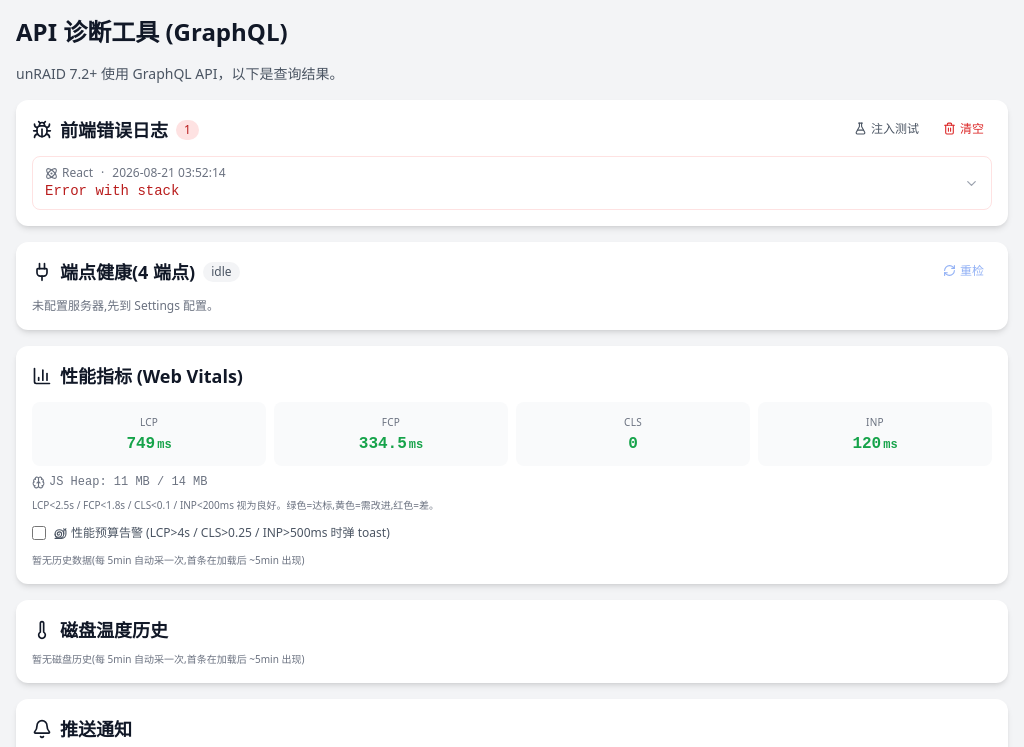
Test: Debug 页面 › 点击错误行 → 展开显示 stack/extra
Expected: the text "at foo() at bar()" is not shown
Click the text "Error with stack" at {"x": 112, "y": 191}, box [45,183,179,199]
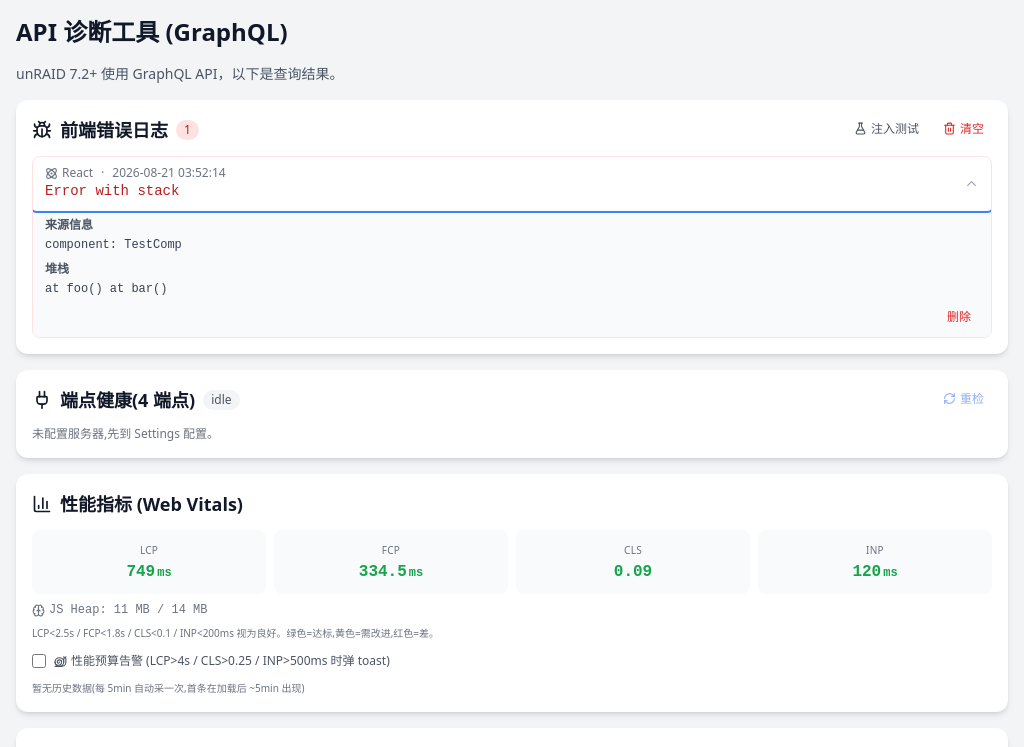
Expected: the text "at foo() at bar()" is shown, [45,282,167,296]
Expected: the text "component: TestComp" is shown, [45,238,182,252]
